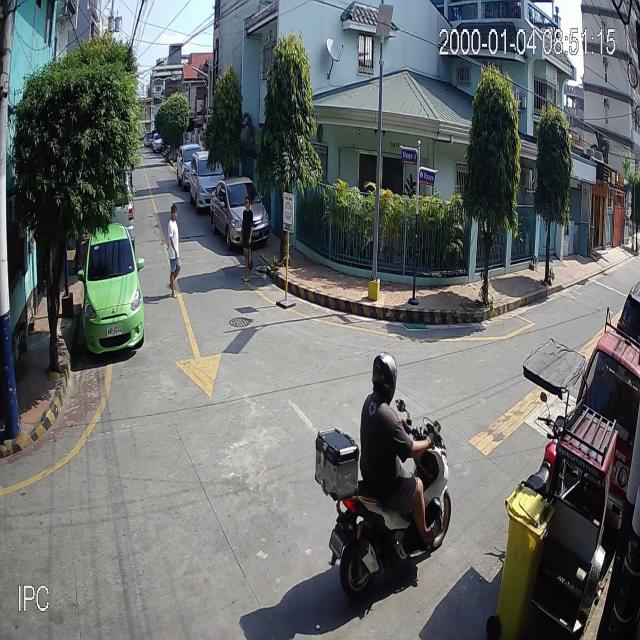standing: (240, 195, 254, 282)
walking: (166, 202, 182, 298)
